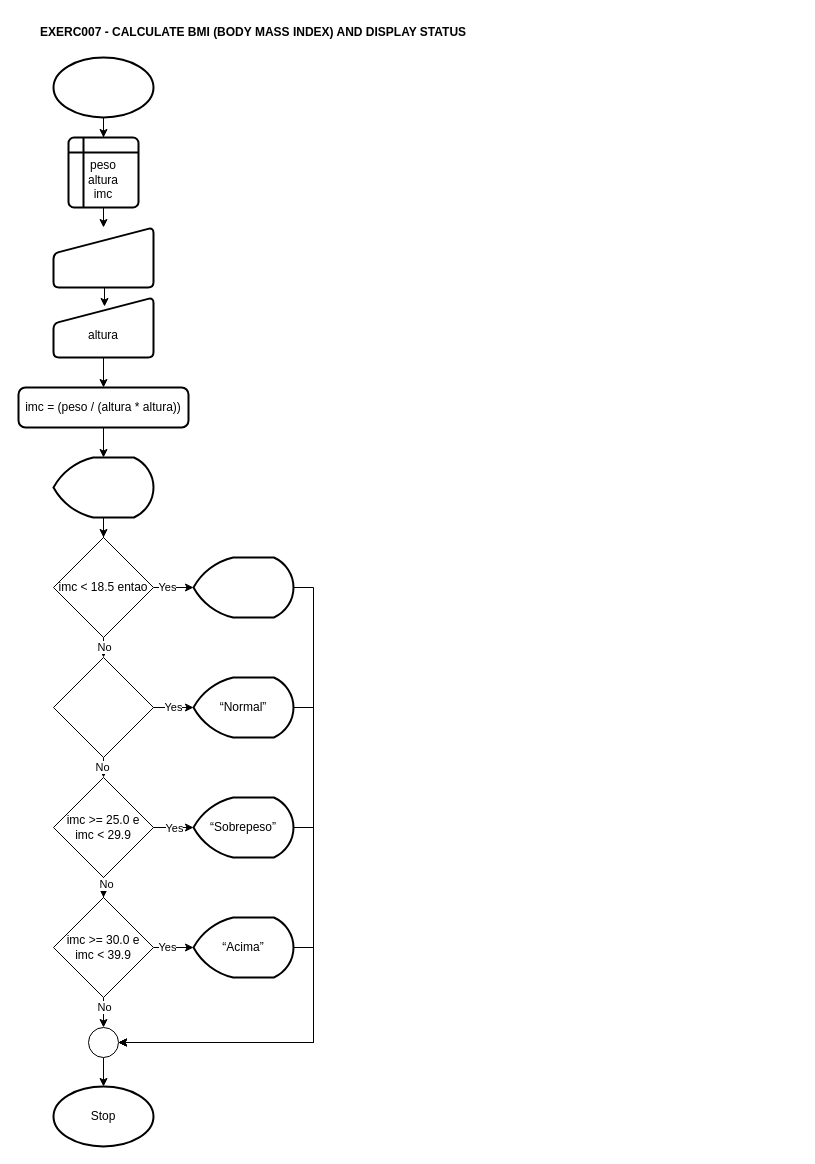
Image size: 815x1164. Some labels were removed from this diagram. Here are the shapes that lost their labels. From the top down, the box of each, then its label:
(52, 56, 154, 118): Start
(52, 226, 154, 288): peso
(52, 456, 154, 518): imc
(192, 556, 294, 618): “Abaixo”
(52, 656, 154, 758): imc >= 18.5 e imc < 24.9
